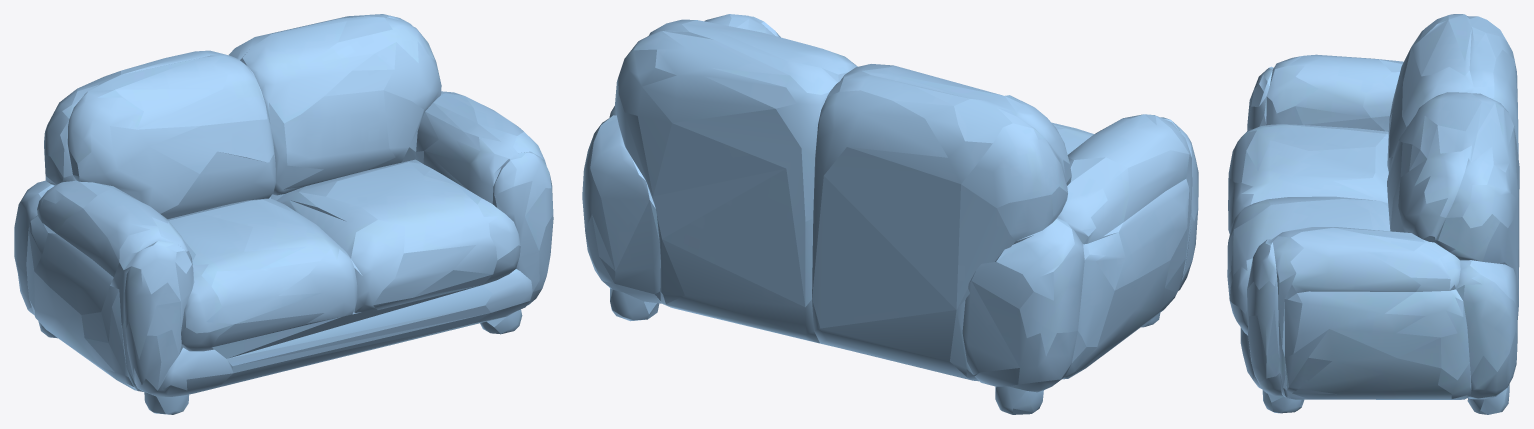
Rendered from sofa-two-seat.glb.
3 renders of one model, left to right at view 1: azimuth 30°, elevation 25°; view 2: azimuth 150°, elevation 25°; view 3: azimuth 270°, elevation 25°, orthographic. The views are drawn at different scales.
Parts seen in each view (by area): view 1: sofa-two-seat-fit; view 2: sofa-two-seat-fit; view 3: sofa-two-seat-fit.
Part boxes in pixels (box(x1,y1,x2,y2)): sofa-two-seat-fit: box(14, 14, 553, 414); sofa-two-seat-fit: box(582, 14, 1198, 414); sofa-two-seat-fit: box(1227, 14, 1519, 414).
Size of the model in its own units: 2.3 by 1.24 by 1.32.
Materials: 1 (1 with a texture image).
